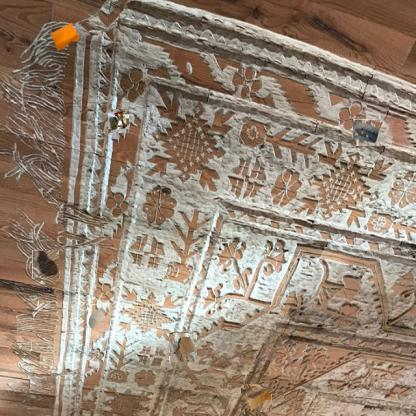dirty: (48, 20, 82, 52), (169, 332, 197, 362), (353, 119, 380, 147), (86, 304, 110, 331), (106, 110, 130, 133)
liquid: (242, 386, 270, 414), (32, 250, 59, 278)
